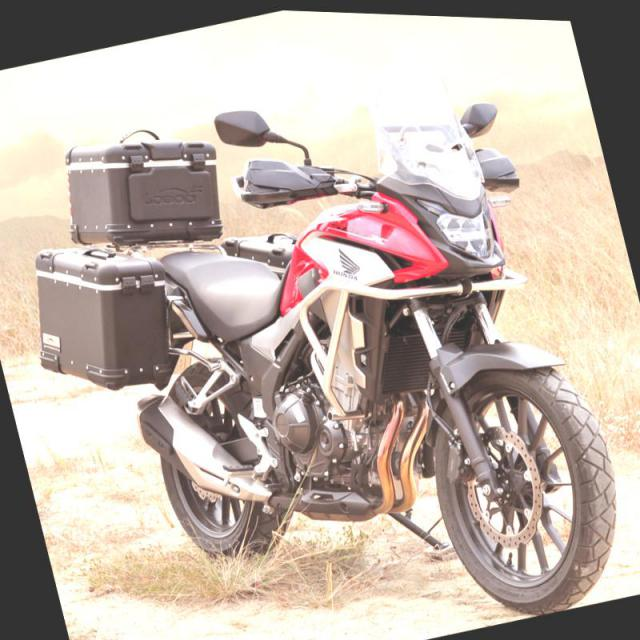CB500X: (65, 19, 639, 640)
